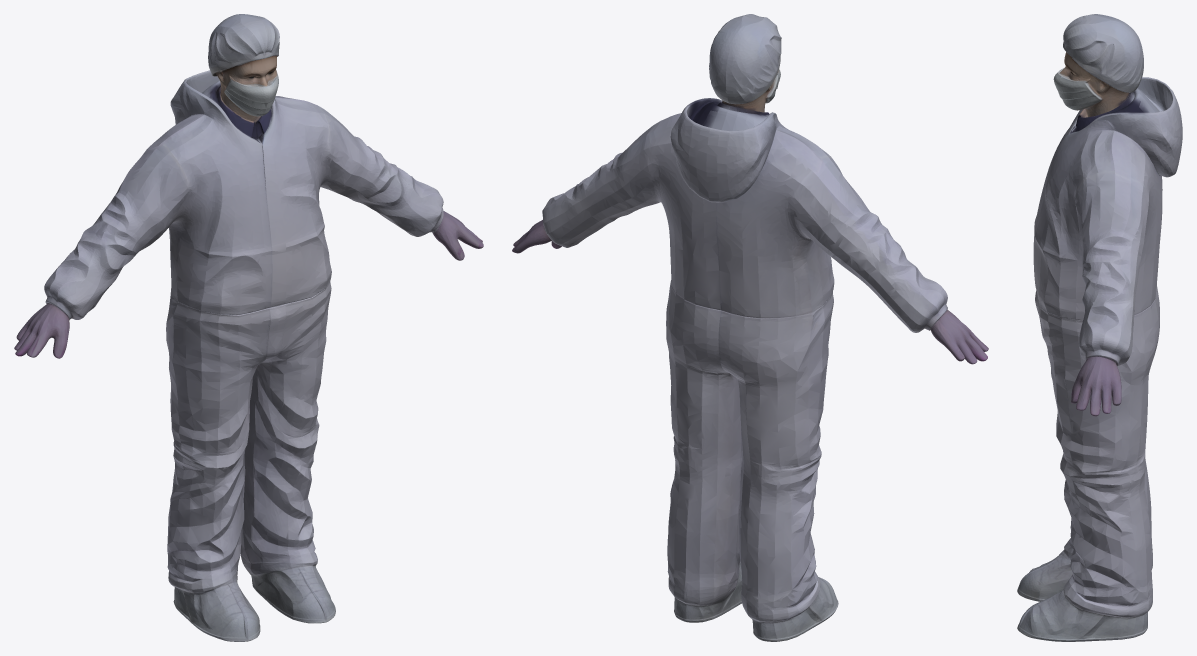
File: medic-staff.obj
3 views of the same model, side by side, from view 1: azimuth 30°, elevation 25°; view 2: azimuth 150°, elevation 25°; view 3: azimuth 270°, elevation 25° (orthographic).
Visible parts, largest first — view 1: material; view 2: material; view 3: material.
Part boxes in pixels (left/top/right/bottom): material: left=14, top=14, right=483, bottom=641; material: left=512, top=14, right=988, bottom=641; material: left=1017, top=14, right=1182, bottom=641.
Bounding box in the file's own units: 0.9651 × 1.16 × 0.2931.
Materials: 1 (1 with a texture image).
